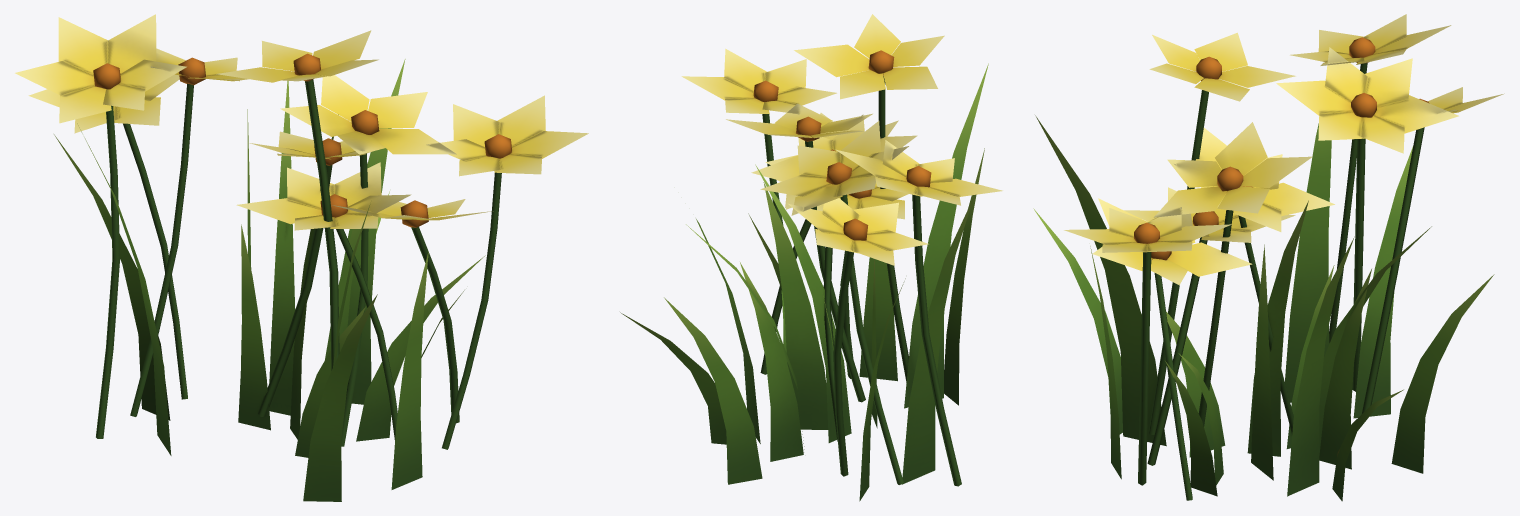
The model's file is flowers_yellow.glb.
3 views of the same model, side by side, from view 1: azimuth 30°, elevation 25°; view 2: azimuth 150°, elevation 25°; view 3: azimuth 270°, elevation 25° (orthographic). The views are drawn at different scales.
Parts seen in each view (by area): view 1: flowers_yellow; view 2: flowers_yellow; view 3: flowers_yellow.
Part boxes in pixels (box(x1,y1,x2,y2)): flowers_yellow: box(15, 14, 588, 501); flowers_yellow: box(620, 14, 1002, 501); flowers_yellow: box(1033, 14, 1504, 501).
Size of the model in its own units: 0.336 by 0.3172 by 0.3421.
Materials: 1 (1 with a texture image).
